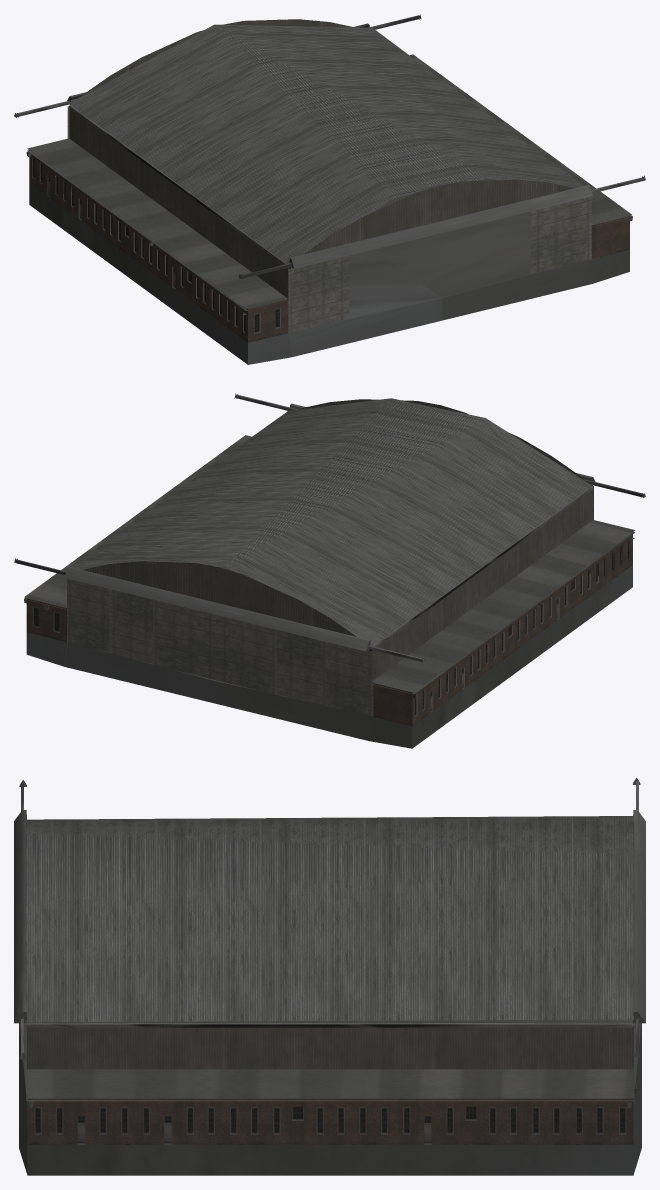
File: basehangar.glb
The picture shows the model from 3 angles, top to bottom: view 1: azimuth 30°, elevation 25°; view 2: azimuth 150°, elevation 25°; view 3: azimuth 270°, elevation 25°; orthographic projection. The views are drawn at different scales.
Parts seen in each view (by area): view 1: Object_2; view 2: Object_2; view 3: Object_2.
Part boxes in pixels (x1=…): Object_2: x1=14, y1=14, x2=645, y2=364; Object_2: x1=14, y1=393, x2=645, y2=748; Object_2: x1=14, y1=777, x2=645, y2=1175.
Size of the model in its own units: 37.13 by 11.76 by 35.95.
Materials: 1 (1 with a texture image).
